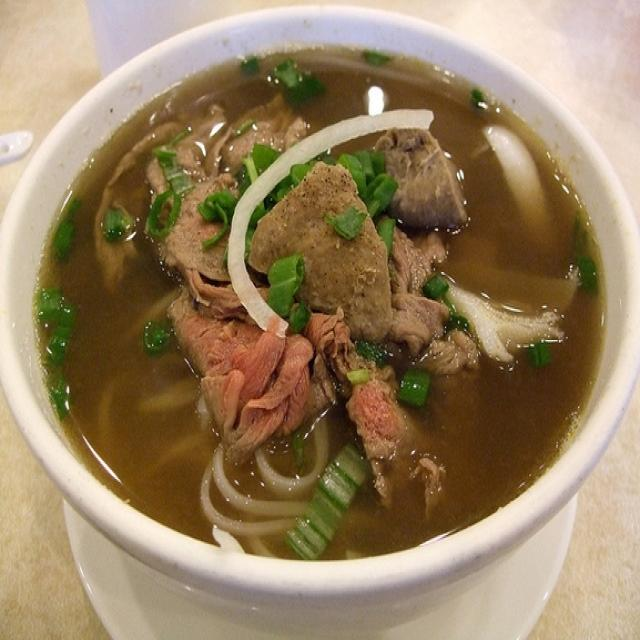面条主食: (26, 21, 601, 584)
